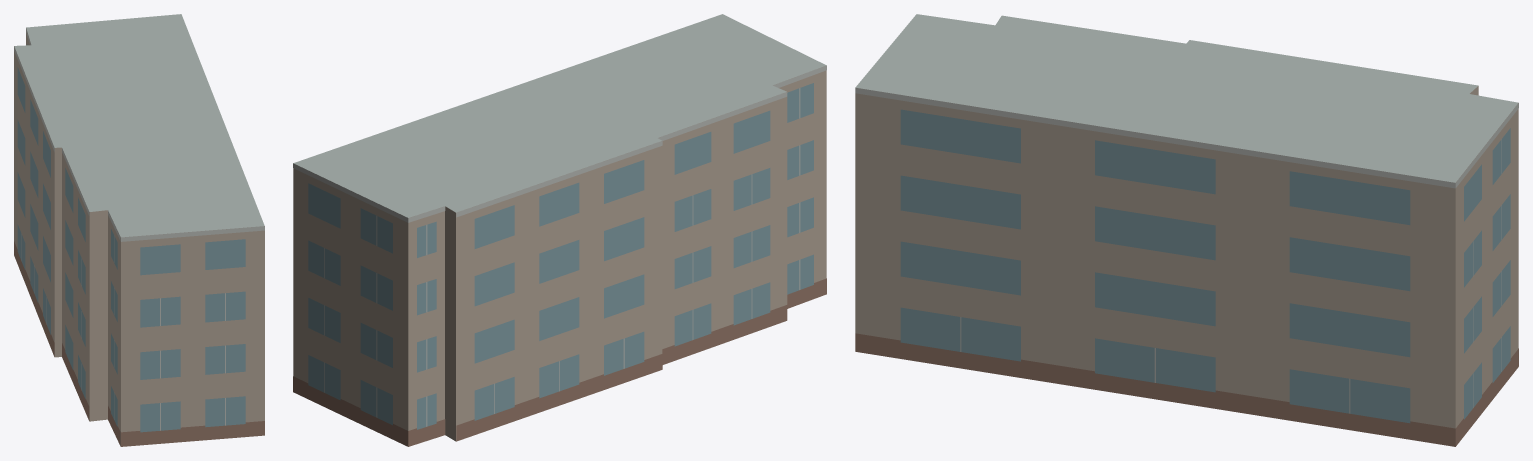
File: survey-upis-32910296.glb
3 renders of one model, left to right at view 1: azimuth 30°, elevation 25°; view 2: azimuth 150°, elevation 25°; view 3: azimuth 270°, elevation 25°, orthographic. The views are drawn at different scales.
Visible parts, largest first — view 1: survey-upis-32910296.tmp; view 2: survey-upis-32910296.tmp; view 3: survey-upis-32910296.tmp.
Part boxes in pixels (left/top/right/bottom): survey-upis-32910296.tmp: left=14, top=14, right=264, bottom=446; survey-upis-32910296.tmp: left=293, top=14, right=826, bottom=446; survey-upis-32910296.tmp: left=855, top=14, right=1518, bottom=446.
Bounding box in the file's own units: 15.64 × 11.4 × 25.97.
